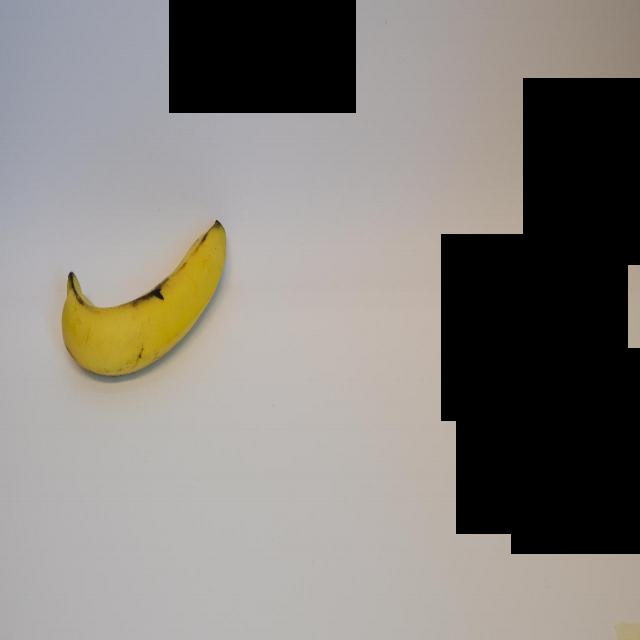banana: (54, 214, 228, 380)
